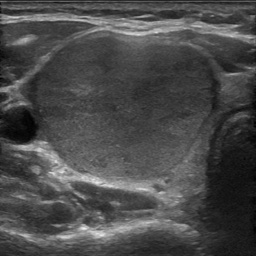mass: (28, 30, 218, 177)
